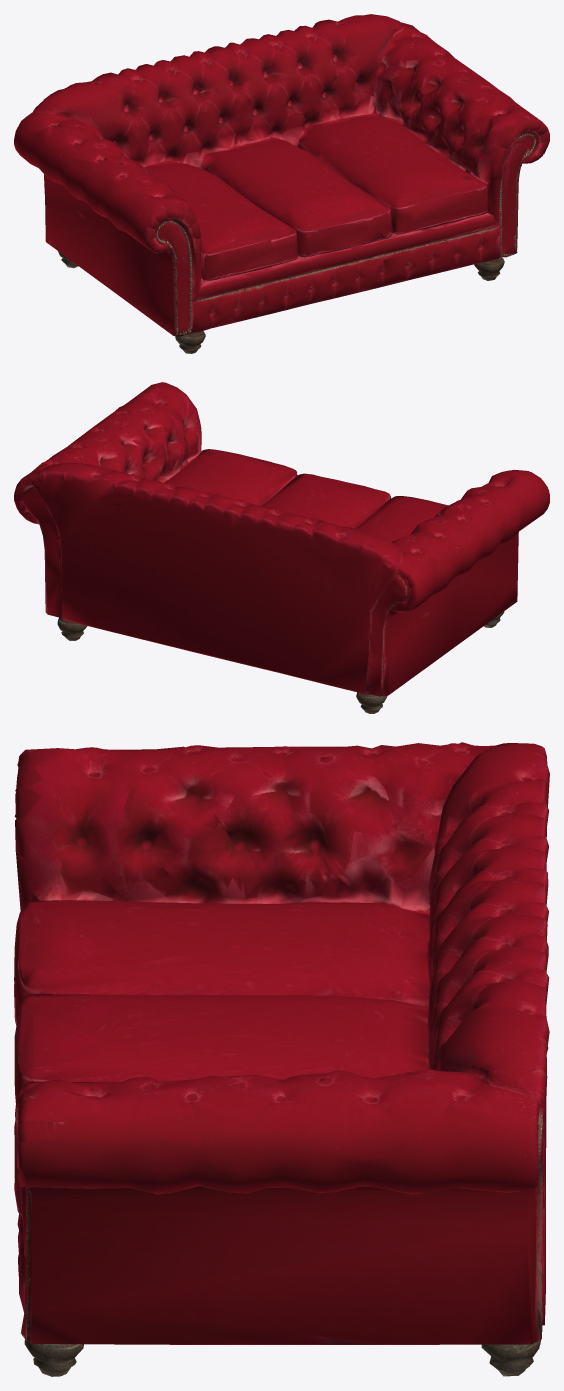
Rendered from sofa.glb.
3 views of the same model, one above another, from view 1: azimuth 30°, elevation 25°; view 2: azimuth 150°, elevation 25°; view 3: azimuth 270°, elevation 25° (orthographic). The views are drawn at different scales.
Visible parts, largest first — view 1: sofa; view 2: sofa; view 3: sofa.
Part boxes in pixels (<box>): sofa: <box>14,14,549,353</box>; sofa: <box>14,382,549,713</box>; sofa: <box>14,742,549,1376</box>.
Bounding box in the file's own units: 1.81 × 0.7508 × 1.06.
Materials: 1 (1 with a texture image).
